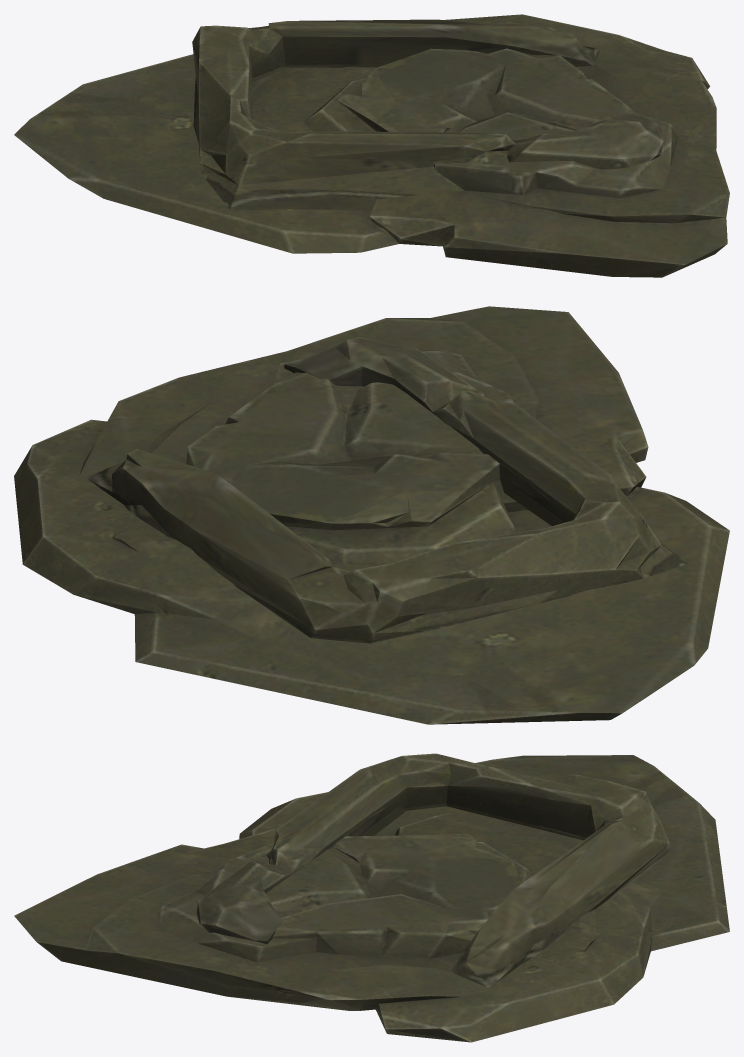
The model's file is rocks.gltf.
3 views of the same model, one above another, from view 1: azimuth 30°, elevation 25°; view 2: azimuth 150°, elevation 25°; view 3: azimuth 270°, elevation 25° (orthographic). The views are drawn at different scales.
Parts seen in each view (by area): view 1: badside_rocks006_model; view 2: badside_rocks006_model; view 3: badside_rocks006_model.
Part boxes in pixels (bbox=[...]): badside_rocks006_model: bbox=[14, 14, 729, 277]; badside_rocks006_model: bbox=[14, 306, 729, 724]; badside_rocks006_model: bbox=[14, 753, 729, 1042].
Bounding box in the file's own units: 354 × 38.59 × 380.
Materials: 1 (1 with a texture image).
